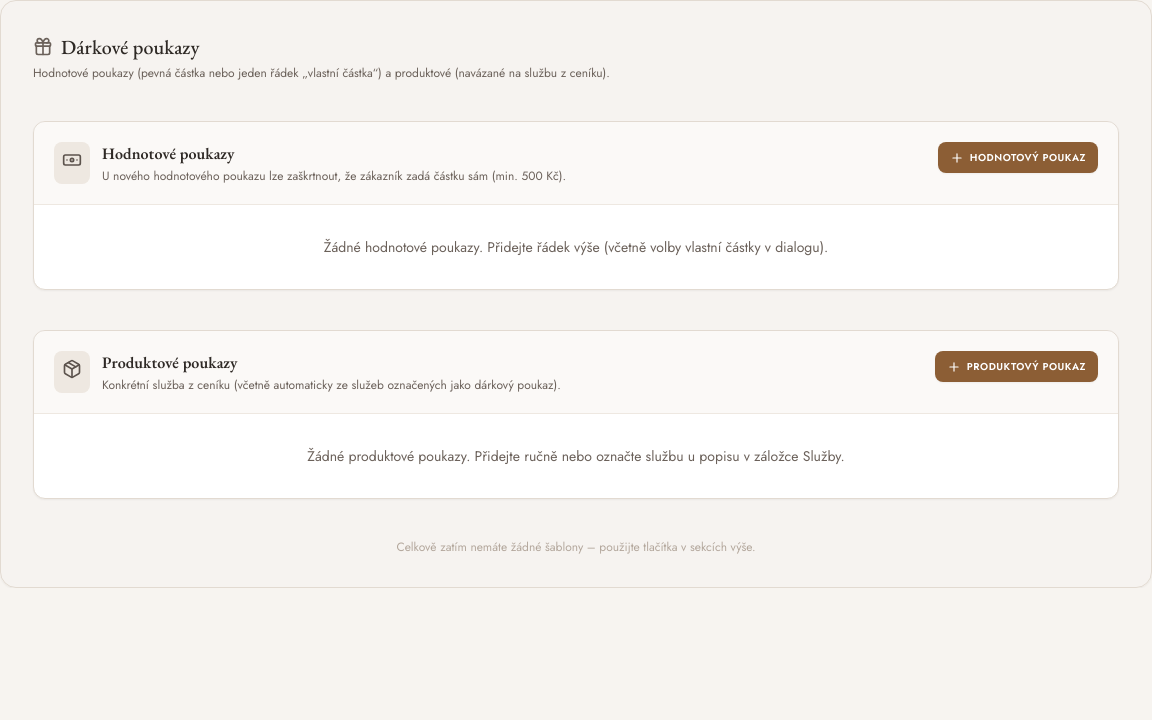
AdminVouchersTab › opens modal for new value voucher
Click the button "Hodnotový poukaz".
click(1018, 158)  # box [938,142,1098,173]
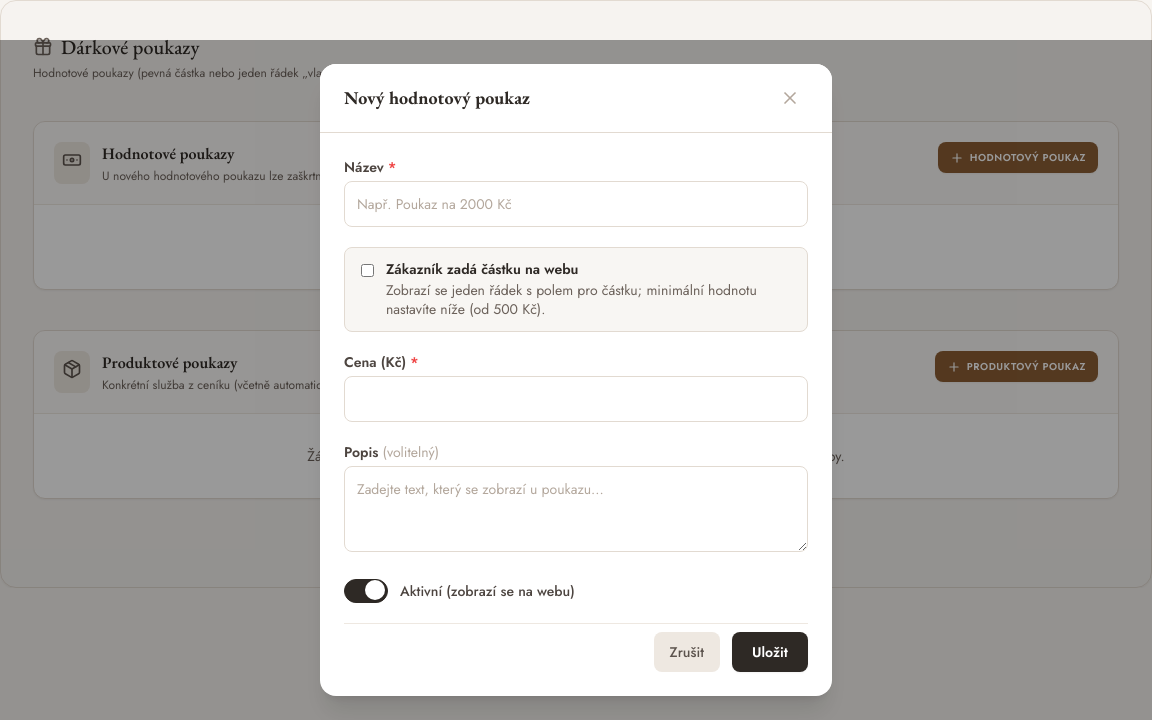
Now the dialog is shown
Now the heading "Nový hodnotový poukaz" is shown, box [344,84,530,112]
